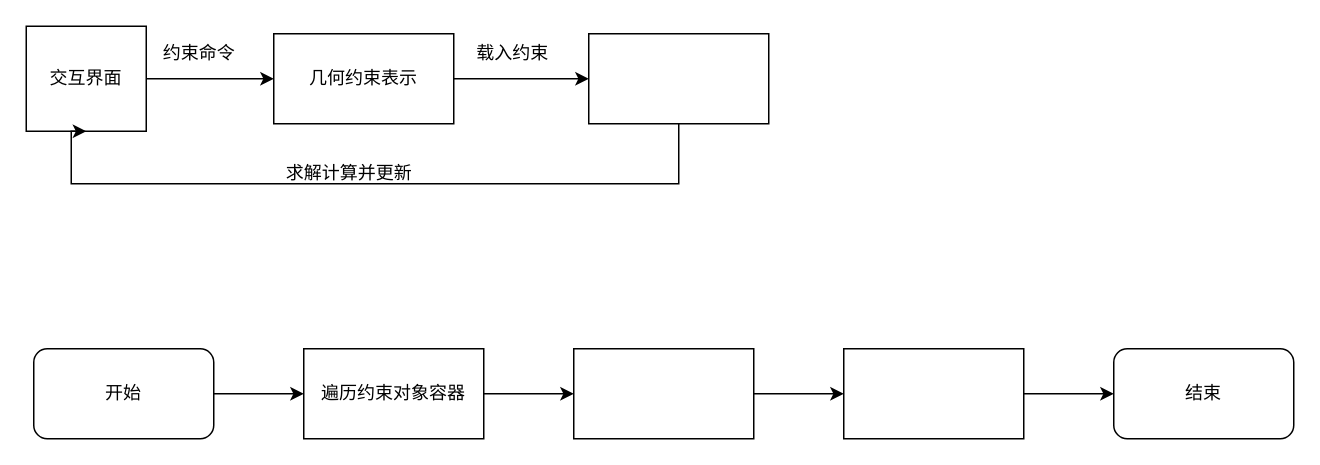
Some shapes in this 1320 by 465 pixel diagram are drawn without their labels. The centre of each missing label's shape, as x and y in pixels:
几何约束求解器 PlaneGCS: point 678,78
求解器内部创建真正的约束对象: point 663,393
求解计算并更新草图形状: point 933,393
